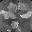people: (7, 3, 17, 13), (5, 12, 17, 20), (20, 11, 32, 19), (11, 21, 19, 29), (0, 9, 9, 16)
